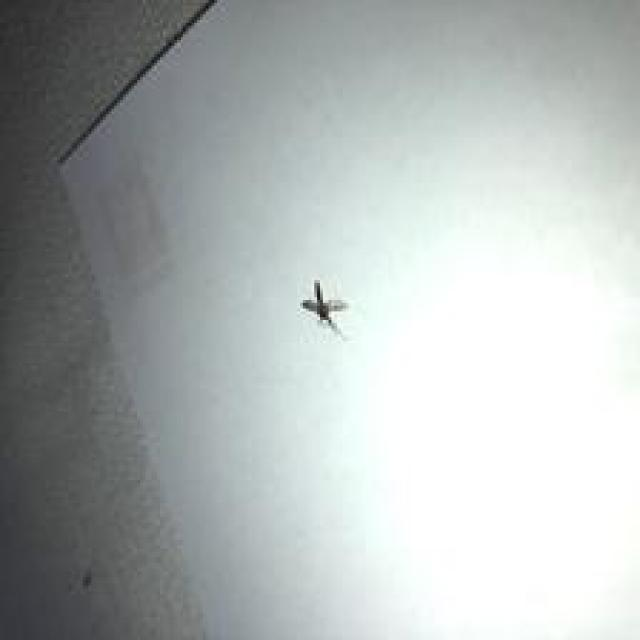Culex: (300, 278, 349, 338)
